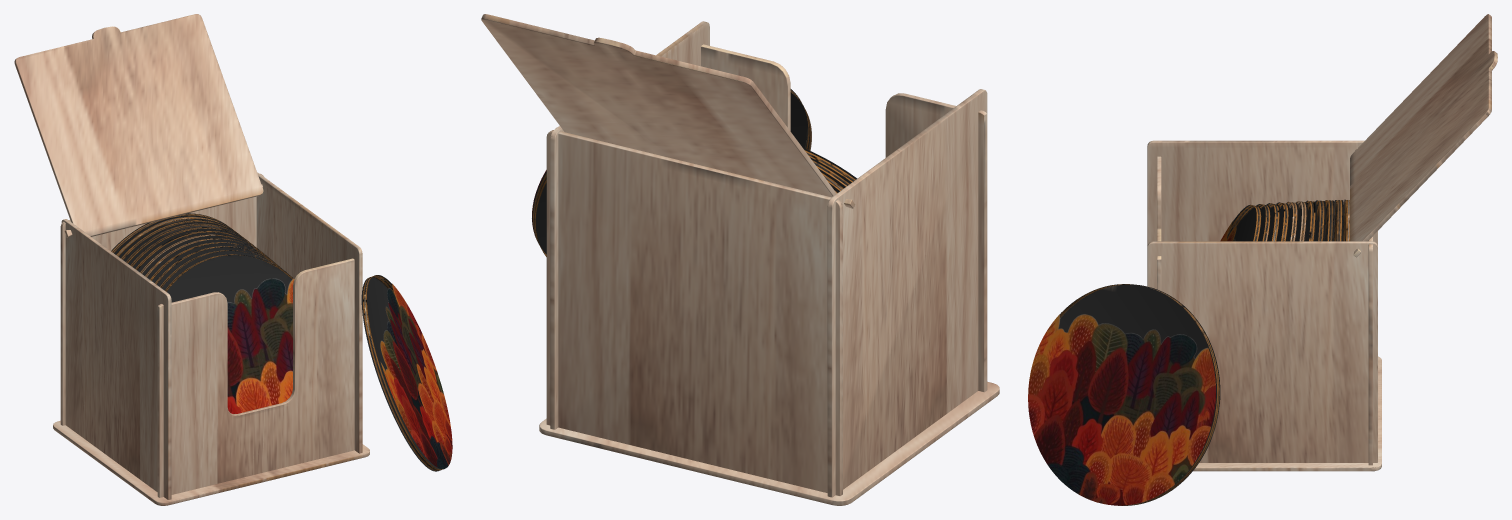
File: tea-coaster-black.glb
The picture shows the model from 3 angles, left to right: view 1: azimuth 30°, elevation 25°; view 2: azimuth 150°, elevation 25°; view 3: azimuth 270°, elevation 25°; orthographic projection. The views are drawn at different scales.
Parts seen in each view (by area): view 1: Cube.002, Circle.003; view 2: Cube.002; view 3: Cube.002, Circle.003.
Boxes of the visible parts, x1,y1,x2,y2 form: Cube.002: (14,14,443,505); Circle.003: (227,278,452,468); Cube.002: (481,14,999,505); Cube.002: (1058,14,1497,505); Circle.003: (1028,220,1236,505).
Size of the model in its own units: 5.95 by 6.41 by 7.49.
Materials: 2 (2 with a texture image).
